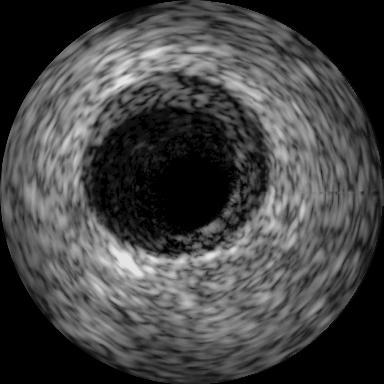Lumen: (153, 150, 238, 228)
